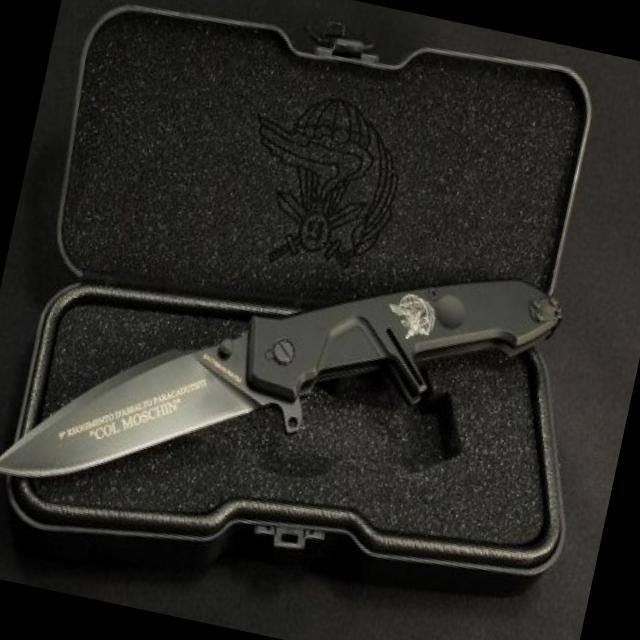knife: (0, 271, 293, 534)
